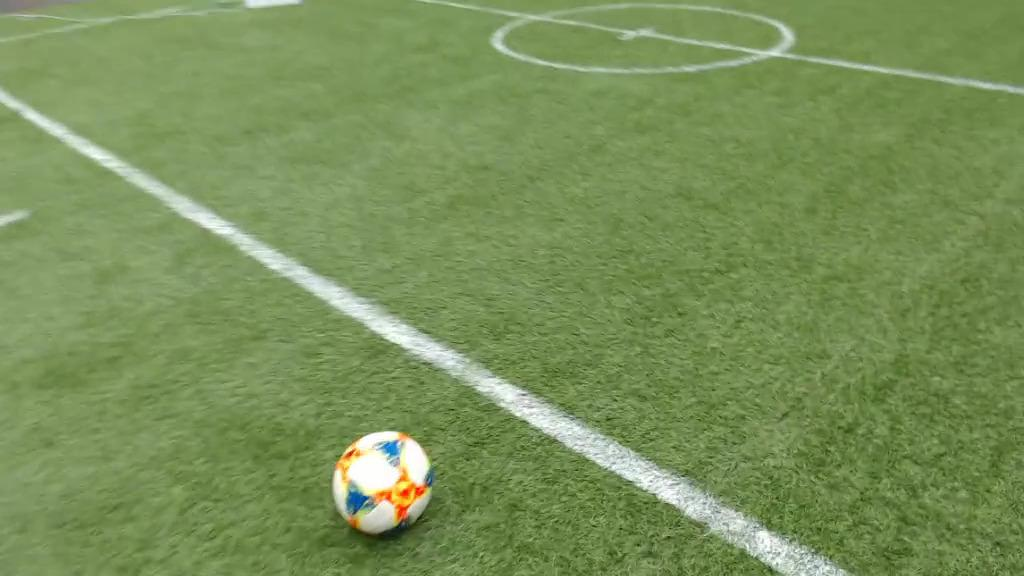ball: (334, 429, 434, 534)
